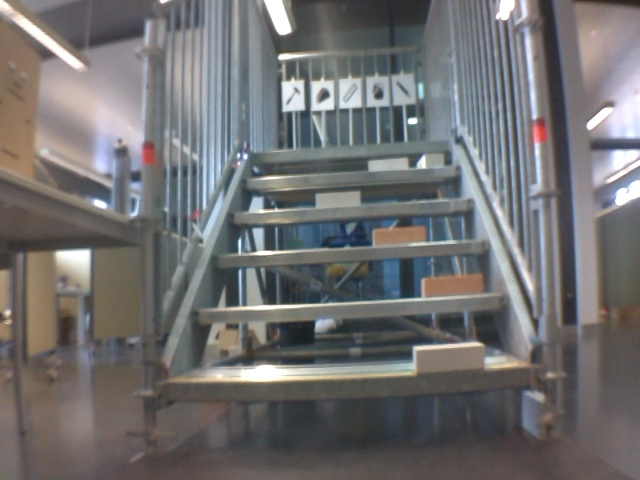brick: (413, 343, 483, 371), (422, 274, 482, 296), (373, 227, 424, 245), (316, 191, 359, 207), (368, 158, 407, 171), (417, 154, 443, 168)
bucket: (369, 81, 387, 101)
edge: (164, 367, 530, 399), (193, 295, 512, 321), (213, 240, 492, 265), (228, 197, 473, 224), (243, 166, 460, 188), (251, 142, 451, 162)
hammer: (283, 85, 301, 108)
pencil: (394, 79, 414, 101)
ruler: (340, 80, 359, 105)
stairs: (138, 2, 566, 441)
steps: (158, 139, 538, 407)
taco: (313, 85, 332, 108)
